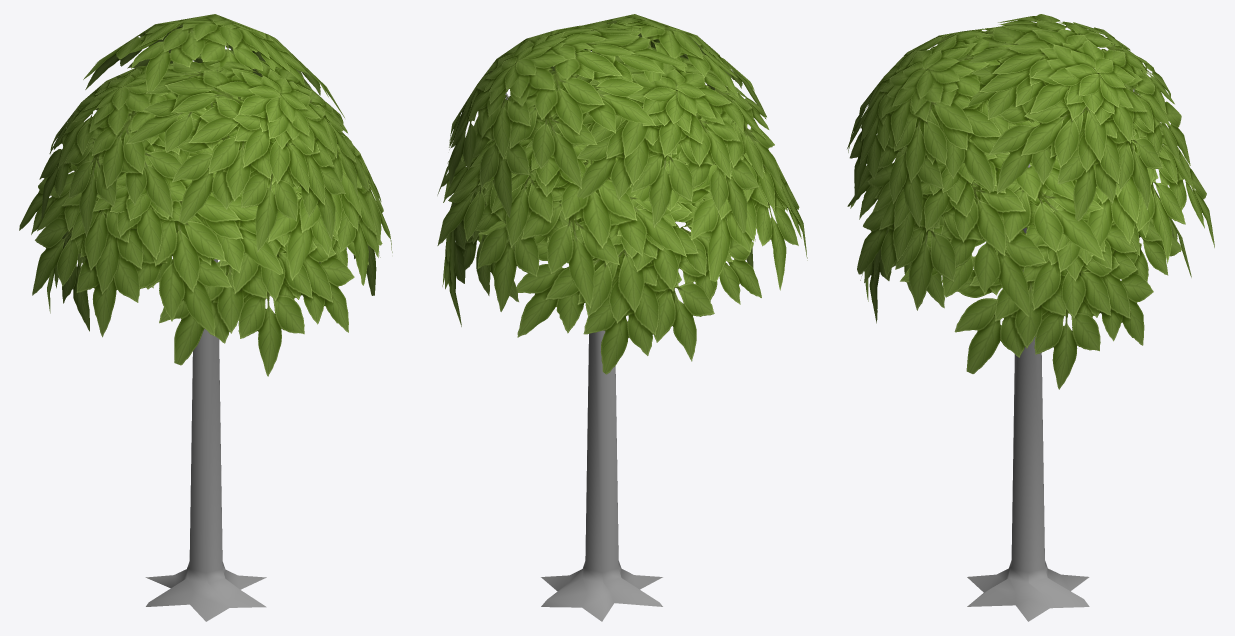
Rendered from Environment_Mesh_Tree1.FBX.
3 renders of one model, left to right at view 1: azimuth 30°, elevation 25°; view 2: azimuth 150°, elevation 25°; view 3: azimuth 270°, elevation 25°, orthographic.
Visible parts, largest first — view 1: Tree3; view 2: Tree3; view 3: Tree3.
Boxes of the visible parts, x1,y1,x2,y2 form: Tree3: (19, 14, 392, 621); Tree3: (437, 14, 807, 621); Tree3: (847, 14, 1214, 621).
Size of the model in its own units: 951 by 1495 by 921.
